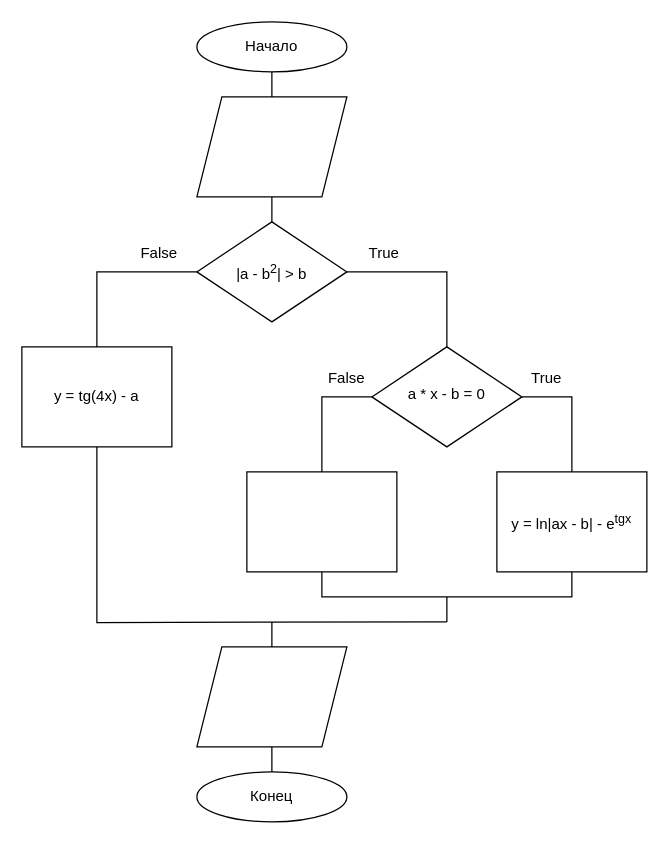
Image size: 669x844. Some labels were removed from this diagram. Here are the shapes that lost their labels. From the top down, the box of each, then its label:
(196, 96, 347, 197): Ввод a, b, x
(246, 471, 397, 572): y = 'Error ln(0)'
(196, 646, 347, 747): Вывод y
